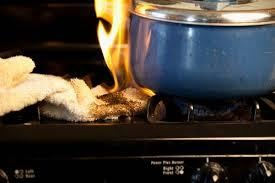fire: (93, 0, 133, 88)
